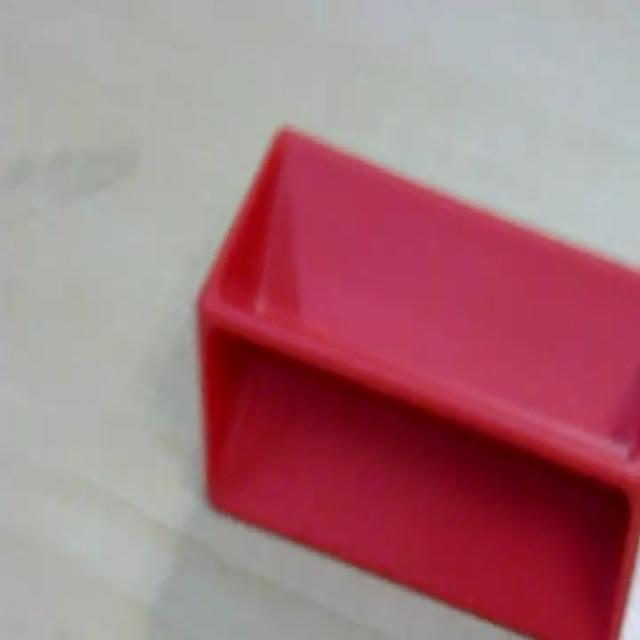red_block: (195, 123, 639, 636)
